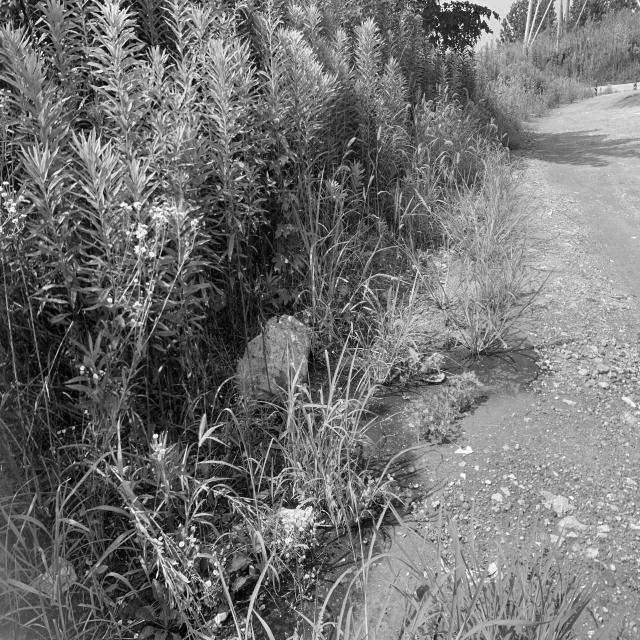Stone: (246, 315, 310, 394)
